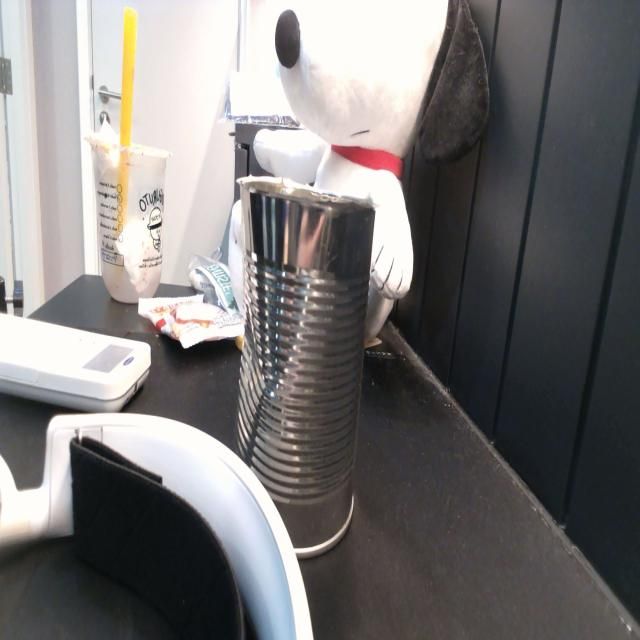metal: (230, 171, 378, 564)
